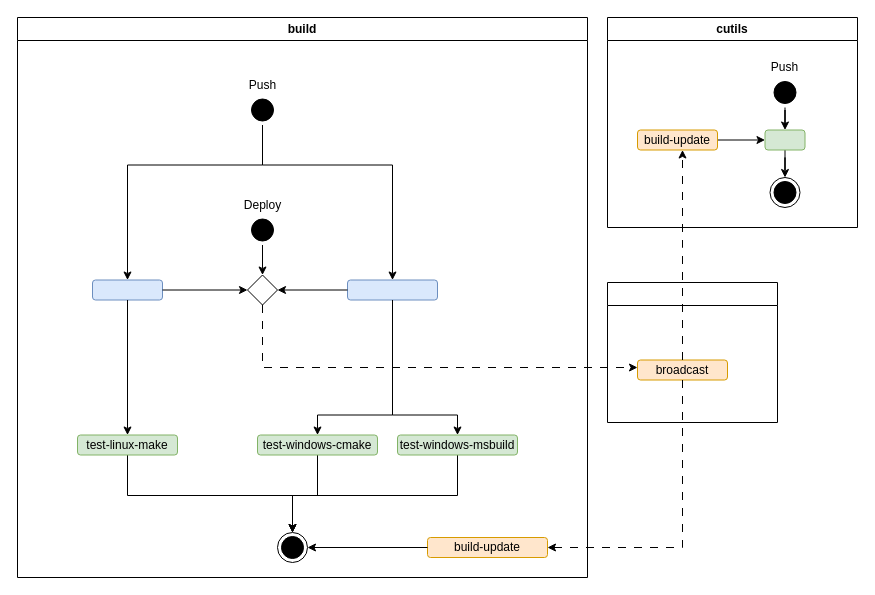
Some shapes in this 875 by 595 pixel diagram are drawn without their labels. The shapes that lost their labels are listed below. From the top down, each one's box as (x1, y1, x2, y2) in pixels, then its label:
(764, 129, 805, 150): test
(92, 279, 162, 300): build-linux
(346, 279, 438, 300): build-windows
(606, 282, 778, 422): build-broadcast
